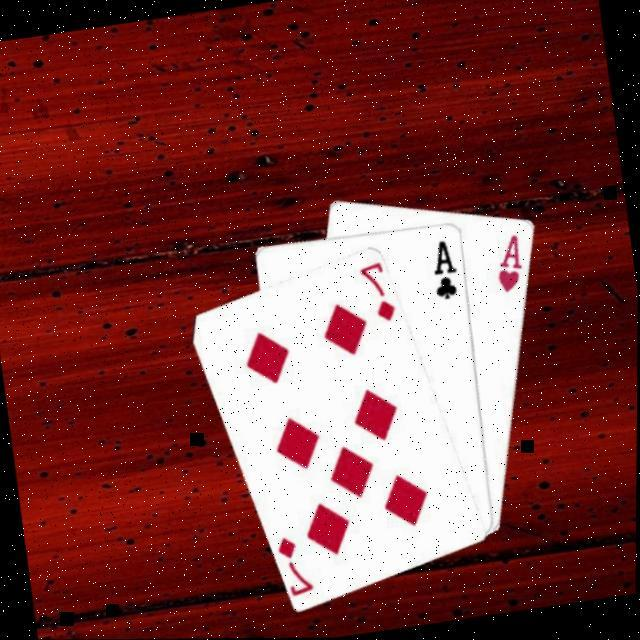7D: (353, 257, 398, 327), (272, 530, 317, 600)
AC: (425, 236, 463, 303)
AH: (488, 230, 527, 296)
